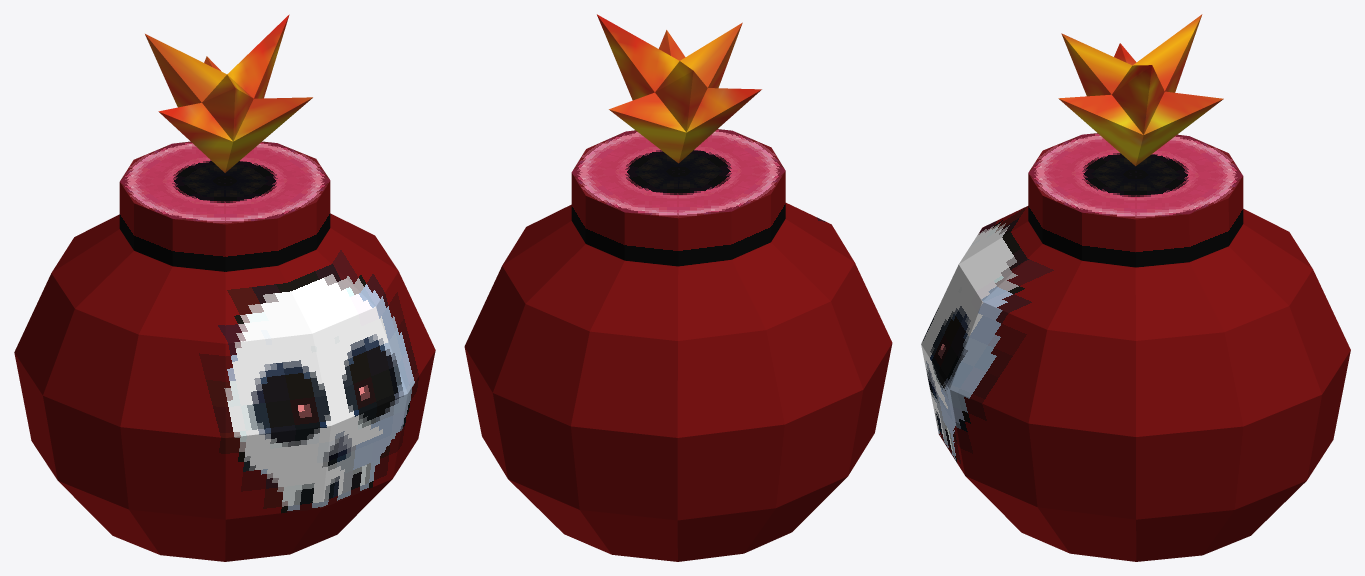
Rendered from MegaBomb.obj.
The picture shows the model from 3 angles, left to right: view 1: azimuth 30°, elevation 25°; view 2: azimuth 150°, elevation 25°; view 3: azimuth 270°, elevation 25°; orthographic projection.
Visible parts, largest first — view 1: Mesh.562_DrawCall_274; view 2: Mesh.562_DrawCall_274; view 3: Mesh.562_DrawCall_274.
Boxes of the visible parts, <box> form: Mesh.562_DrawCall_274: <box>14,14,435,561</box>; Mesh.562_DrawCall_274: <box>464,14,892,561</box>; Mesh.562_DrawCall_274: <box>921,14,1350,561</box>.
Bounding box in the file's own units: 10.23 × 13.59 × 10.32.
Materials: 3 (3 with a texture image).
